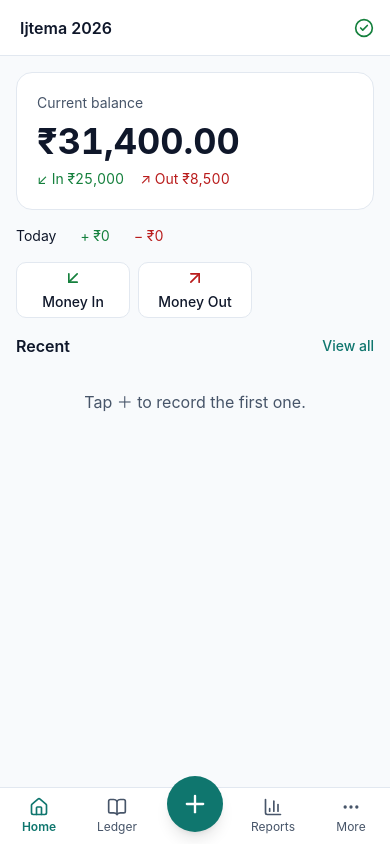
Test case: AppShell and route guards › opens the quick-action sheet from the add button
Click the button named "Add transaction" at x=195, y=804, box [167,776,223,832]
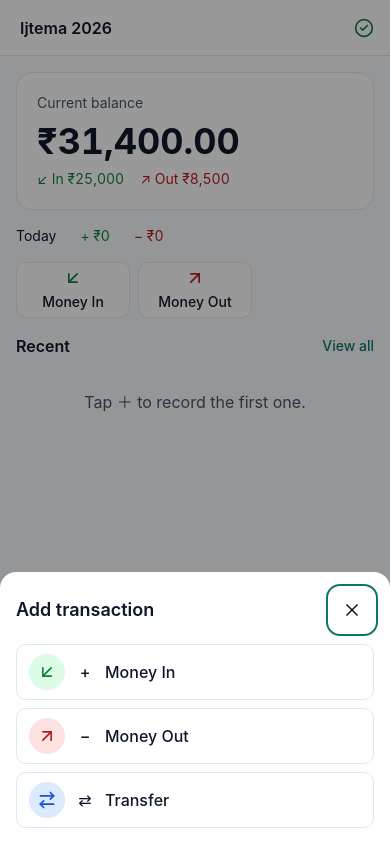
Result: the button "+ Money In" is shown at [16,644,374,700]
